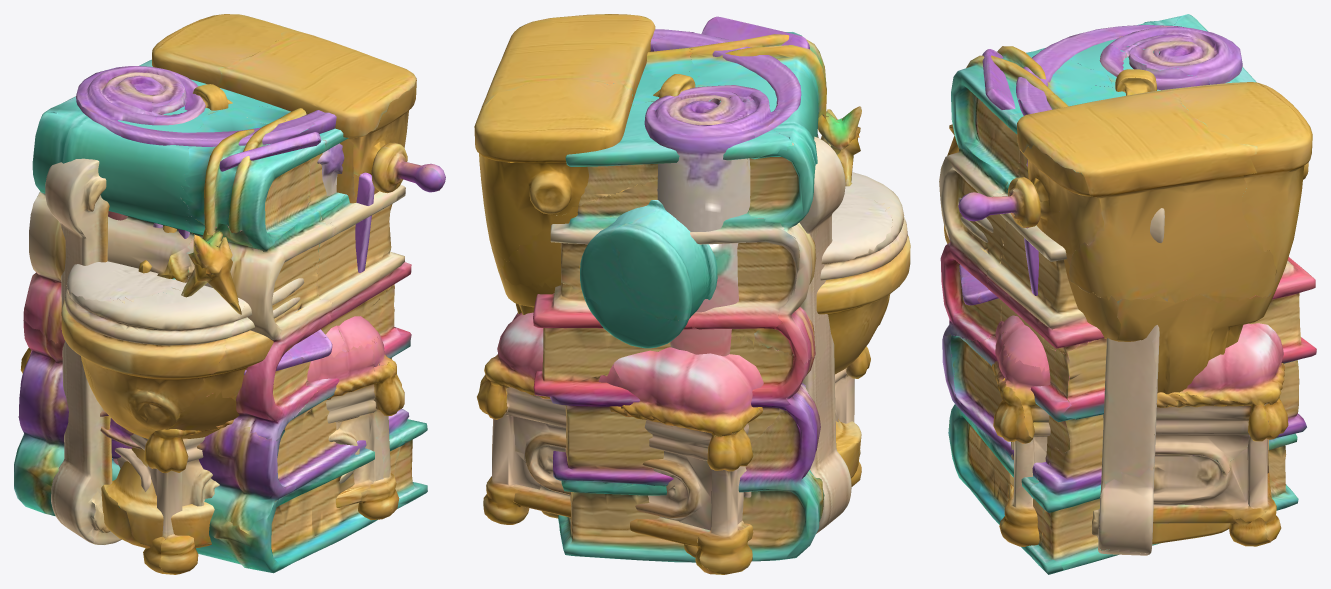
File: store_items_sheet_15_mobile.glb
The picture shows the model from 3 angles, left to right: view 1: azimuth 30°, elevation 25°; view 2: azimuth 150°, elevation 25°; view 3: azimuth 270°, elevation 25°; orthographic projection. The views are drawn at different scales.
Parts seen in each view (by area): view 1: book_stack, golden_toilet, crown_display, skylight_poster, peach_wall, studio_spot; view 2: book_stack, golden_toilet, crown_display, peach_wall, studio_spot, skylight_poster; view 3: golden_toilet, book_stack, crown_display, skylight_poster, peach_wall, studio_spot.
Part boxes in pixels (x1,y1,x2,y2): book_stack: (14,59,427,573); golden_toilet: (61,14,445,548); crown_display: (20,89,404,574); skylight_poster: (45,84,378,544); peach_wall: (76,66,344,464); studio_spot: (178,132,374,374); book_stack: (533,32,861,562); golden_toilet: (474,14,910,518); crown_display: (477,75,870,574); peach_wall: (644,29,801,356); studio_spot: (580,16,809,557); skylight_poster: (651,74,851,533); golden_toilet: (944,82,1312,544); book_stack: (939,14,1316,574); crown_display: (989,72,1288,546); skylight_poster: (1091,69,1164,555); peach_wall: (1016,25,1242,166); studio_spot: (959,49,1038,305).
Size of the model in its own units: 1.38 by 1.55 by 1.27.
Materials: 1 (1 with a texture image).
